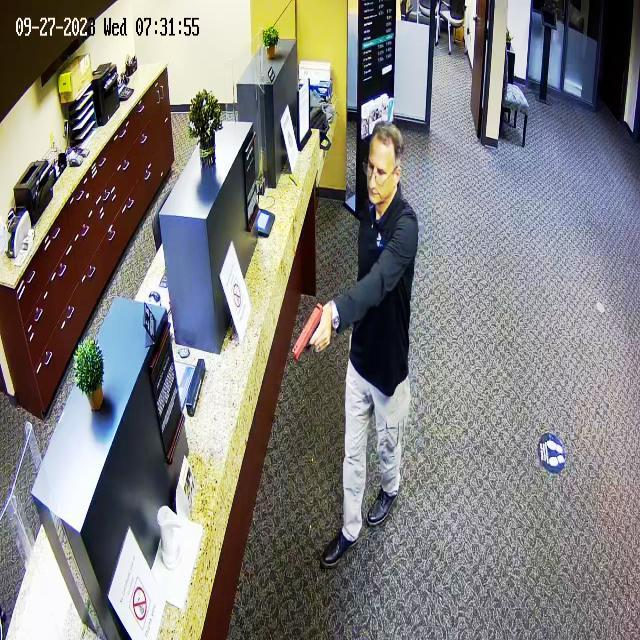Gun: (288, 293, 346, 362)
